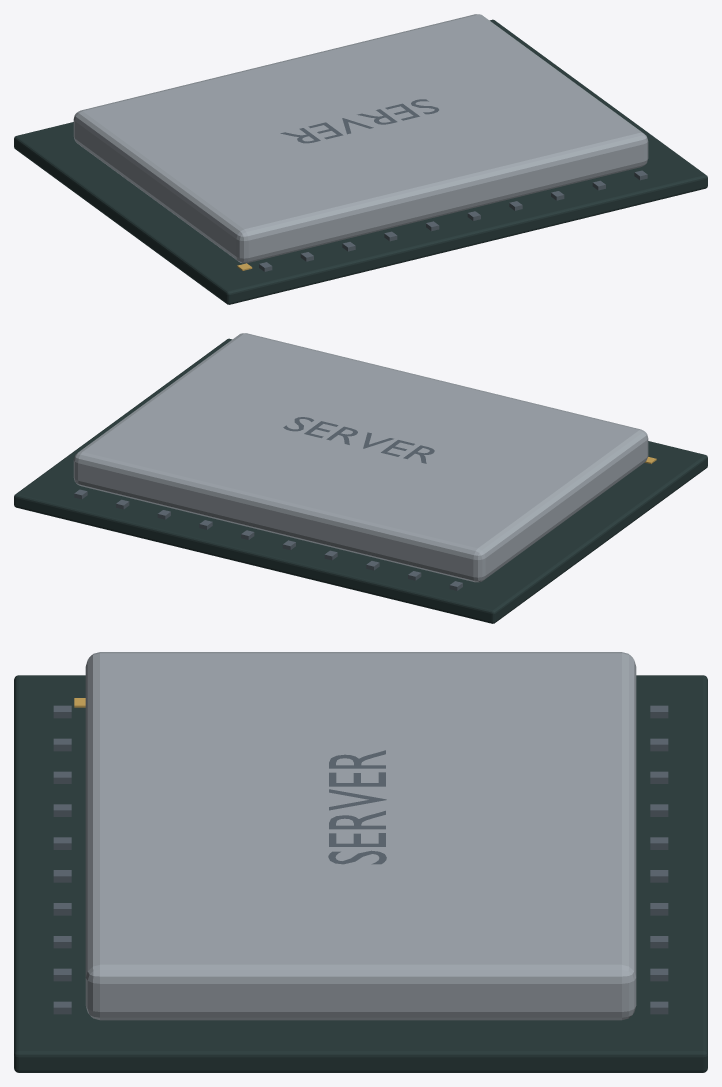
Rendered from cpu-server.glb.
The picture shows the model from 3 angles, top to bottom: view 1: azimuth 30°, elevation 25°; view 2: azimuth 150°, elevation 25°; view 3: azimuth 270°, elevation 25°; orthographic projection. The views are drawn at different scales.
Visible parts, largest first — view 1: CPU_Metal_Aluminum, CPU_PCB_Deep_Slate, CPU_Metal_Dark_Steel; view 2: CPU_Metal_Aluminum, CPU_PCB_Deep_Slate, CPU_Metal_Dark_Steel; view 3: CPU_Metal_Aluminum, CPU_PCB_Deep_Slate, CPU_Metal_Dark_Steel.
Part boxes in pixels (bbox=[...]): CPU_Metal_Aluminum: bbox=[73, 14, 648, 263]; CPU_PCB_Deep_Slate: bbox=[14, 19, 707, 304]; CPU_Metal_Dark_Steel: bbox=[259, 99, 647, 271]; CPU_Metal_Aluminum: bbox=[73, 333, 648, 582]; CPU_PCB_Deep_Slate: bbox=[14, 338, 707, 623]; CPU_Metal_Dark_Steel: bbox=[74, 417, 462, 590]; CPU_Metal_Aluminum: bbox=[85, 652, 636, 1020]; CPU_PCB_Deep_Slate: bbox=[14, 675, 707, 1072]; CPU_Metal_Dark_Steel: bbox=[53, 705, 668, 1014].
Bounding box in the file's own units: 0.075 × 0.0074 × 0.058.
